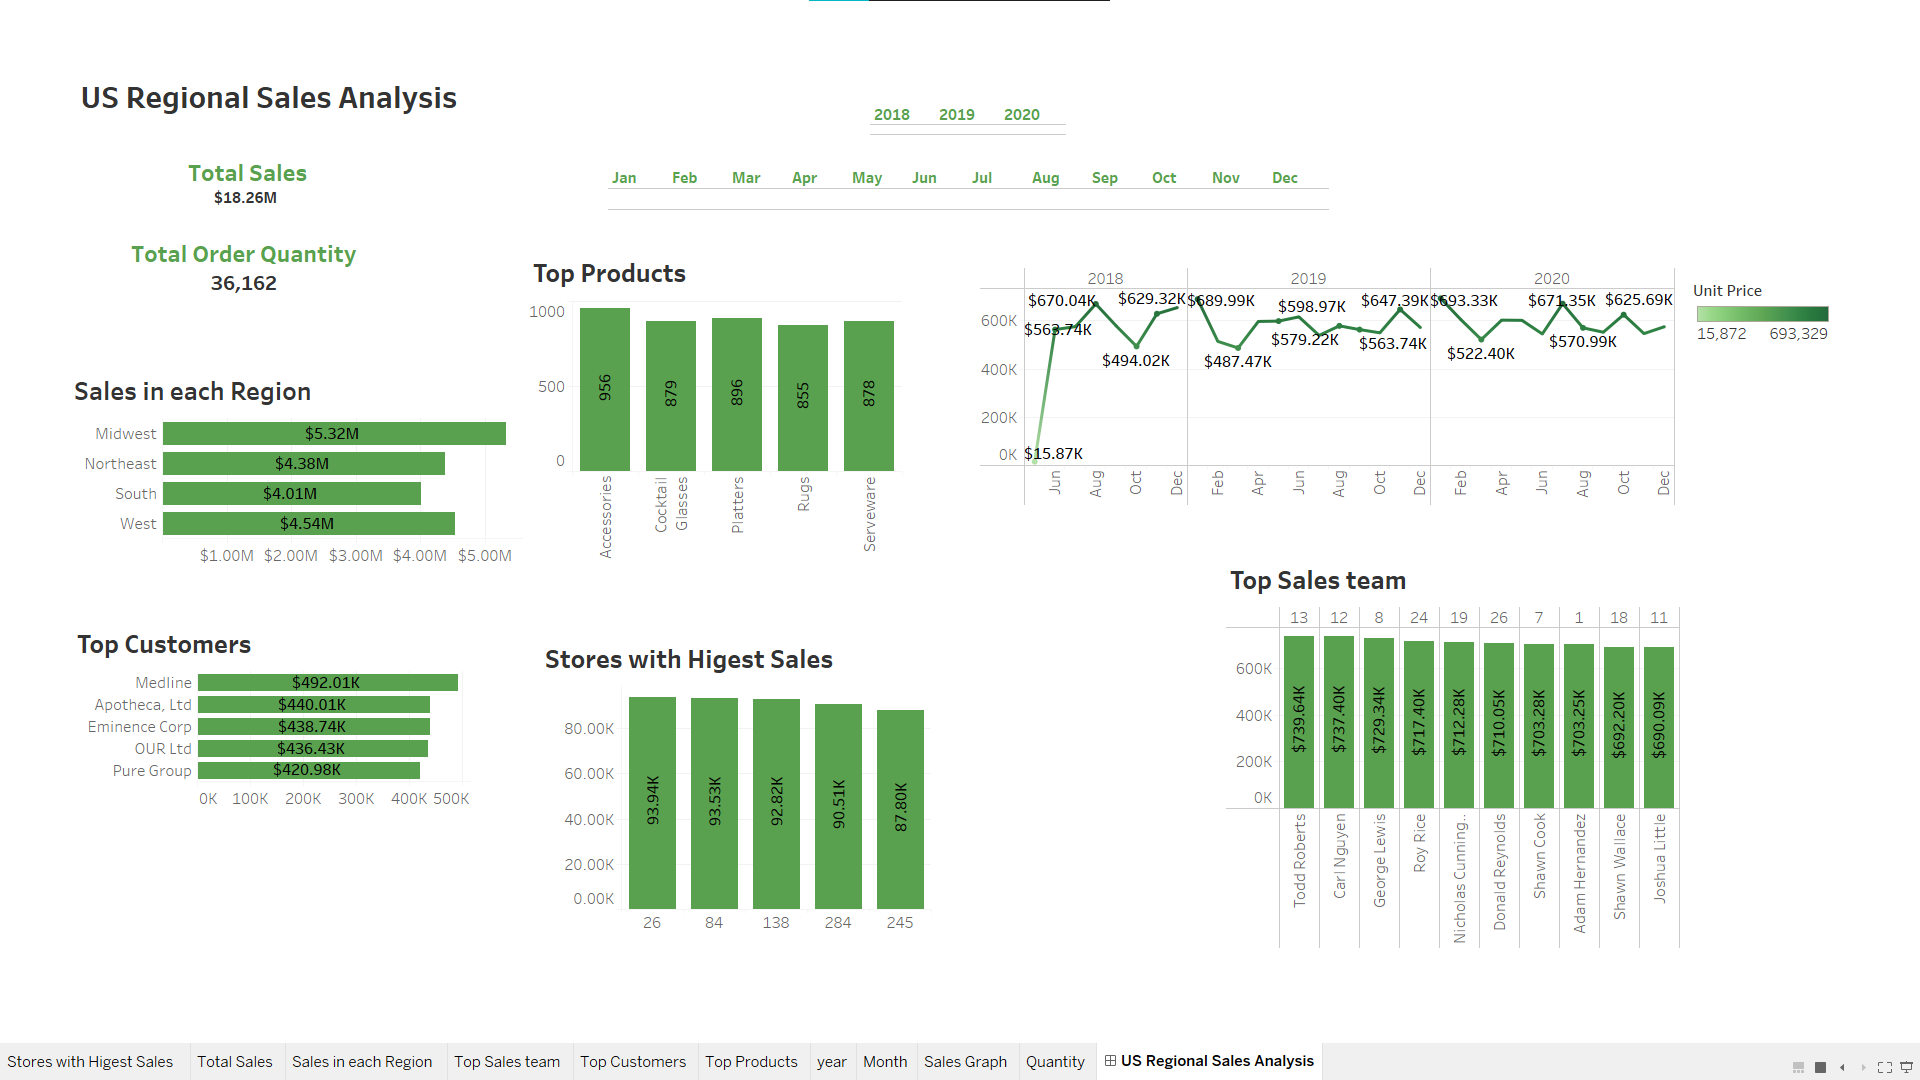

The dashboard page shown, as its layout file describes it:
{"tool":"tableau","page":{"name":"US Regional Sales Analysis","canvas":[1800,900],"ordinal":0},"visuals":[{"type":"title","box":[17,0,565,49]},{"type":"worksheet","title":"Total Sales","mark":"Automatic","box":[116,15,228,159]},{"type":"worksheet","title":"year","mark":"Automatic","cols":["OrderDate"],"box":[810,18,196,46]},{"type":"worksheet","title":"Month","mark":"Automatic","cols":["OrderDate"],"box":[548,81,847,62]},{"type":"worksheet","title":"Sales Graph","mark":"Automatic","rows":["Unit Price"],"cols":["OrderDate","OrderDate"],"box":[920,147,695,288]},{"type":"worksheet","title":"Quantity","mark":"Automatic","box":[64,151,381,141]},{"type":"worksheet","title":"Top Products","mark":"Automatic","rows":["Order Quantity"],"cols":["Product Name"],"box":[469,180,439,309]},{"type":"legend","title":"Sales Graph","param":"[federated.1ow9d8g14jt4k41cm7m401w7gd5x].[sum:Unit Price:qk]","box":[1633,209,140,88]},{"type":"worksheet","title":"Sales in each Region","mark":"Automatic","rows":["Region"],"cols":["Unit Price"],"box":[10,298,453,268]},{"type":"worksheet","title":"Top Sales team","mark":"Automatic","rows":["Unit Price"],"cols":["_SalesTeamID","Sales Team"],"box":[1166,487,609,391]},{"type":"worksheet","title":"Stores with Higest Sales","mark":"Automatic","rows":["Unit Price"],"cols":["_StoreID"],"box":[481,566,419,297]}]}

Visuals, with their boxes on the page's 1800x900 design canvas (x1, y1, x2, y2). These are canvas units, not pixel positions in the 1920x1080 screenshot, which may show the page scaled, cropped or inside an application window:
title: pyautogui.locateOnScreen(17, 0, 582, 49)
"Total Sales" worksheet: pyautogui.locateOnScreen(116, 15, 344, 174)
"year" worksheet: pyautogui.locateOnScreen(810, 18, 1006, 64)
"Month" worksheet: pyautogui.locateOnScreen(548, 81, 1395, 143)
"Sales Graph" worksheet: pyautogui.locateOnScreen(920, 147, 1615, 435)
"Quantity" worksheet: pyautogui.locateOnScreen(64, 151, 445, 292)
"Top Products" worksheet: pyautogui.locateOnScreen(469, 180, 908, 489)
"Sales Graph" legend: pyautogui.locateOnScreen(1633, 209, 1773, 297)
"Sales in each Region" worksheet: pyautogui.locateOnScreen(10, 298, 463, 566)
"Top Sales team" worksheet: pyautogui.locateOnScreen(1166, 487, 1775, 878)
"Stores with Higest Sales" worksheet: pyautogui.locateOnScreen(481, 566, 900, 863)
